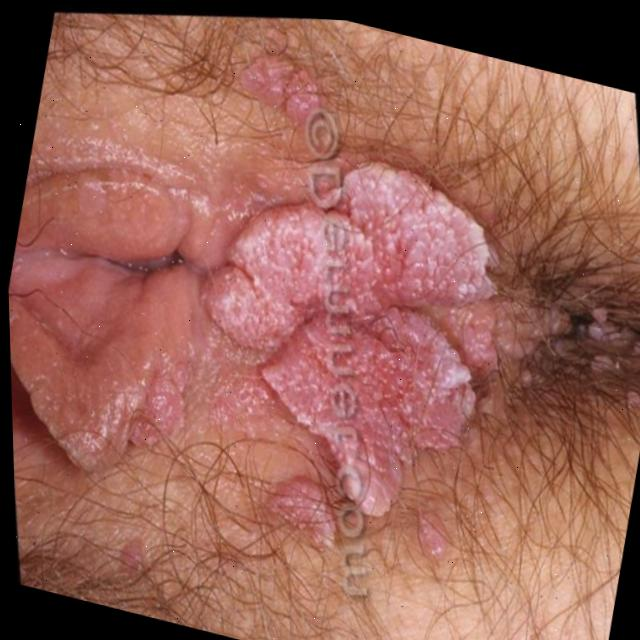Shingles: (207, 141, 517, 486)
